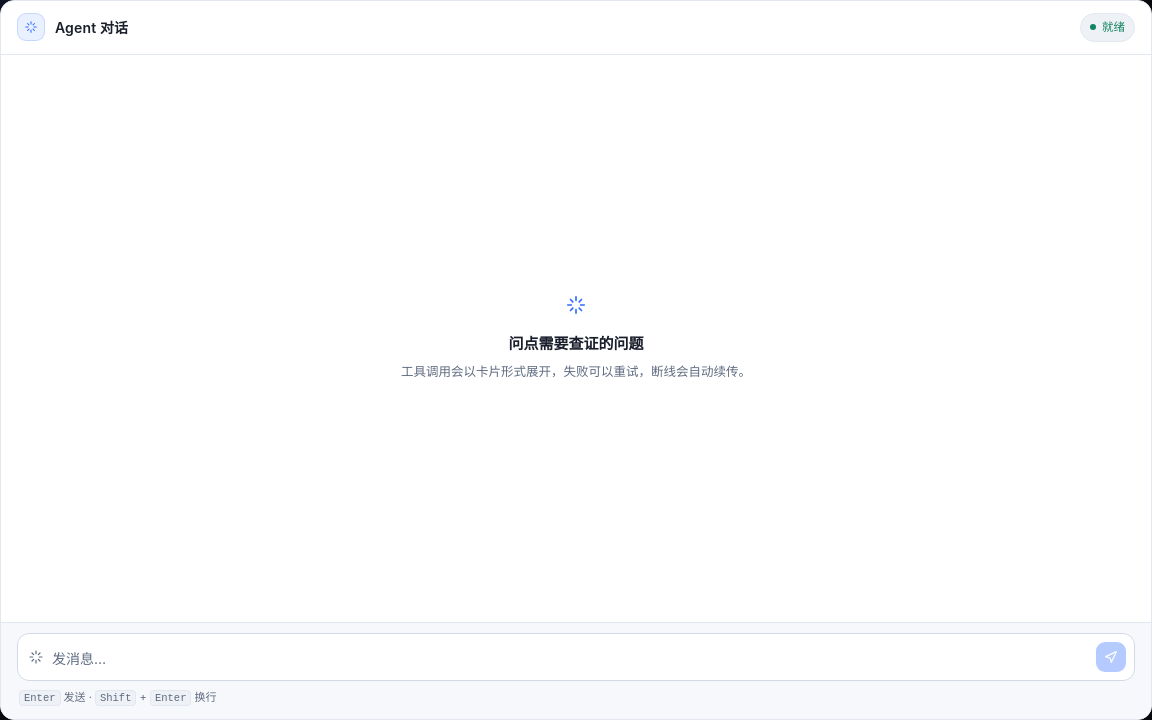
Test: AgentChat › 重连中显示提示，不显示打字光标
Type "hi" into the text box named "输入消息" at (570,659), box [52,646,1088,672]
Then press Enter
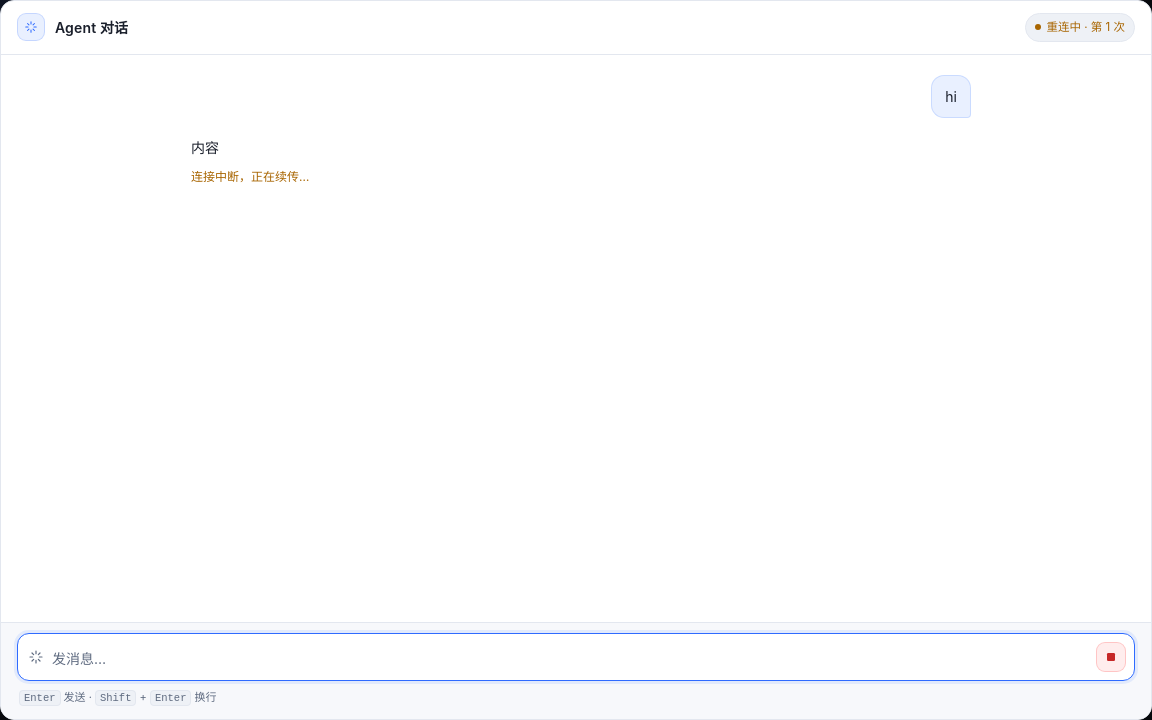
Expected: the text "连接中断，正在续传…" is shown, [191,169,309,184]
Expected: the element with test id "status-badge" shows "重连中", [1047,20,1081,34]
